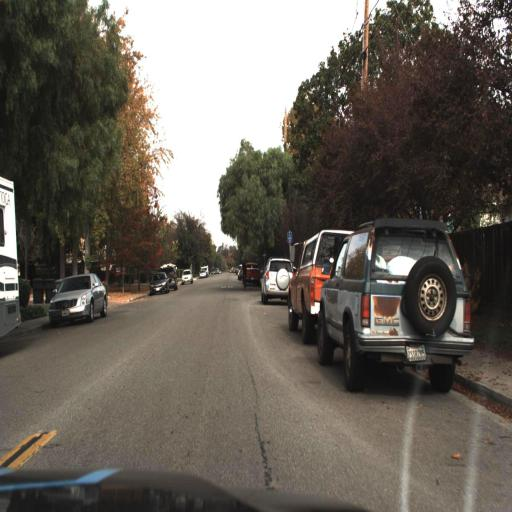car: (315, 216, 473, 393), (285, 226, 354, 346), (45, 269, 108, 327), (43, 272, 110, 325), (257, 256, 295, 305), (148, 268, 171, 301), (161, 261, 183, 291), (241, 262, 261, 288), (179, 265, 196, 287), (196, 266, 210, 282)
